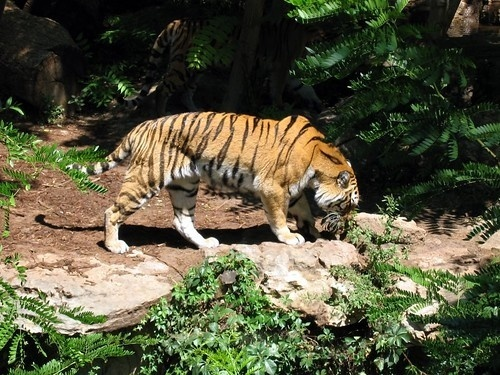tigre: (93, 108, 359, 253)
